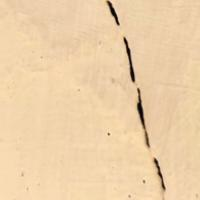crack: (96, 0, 192, 199)
